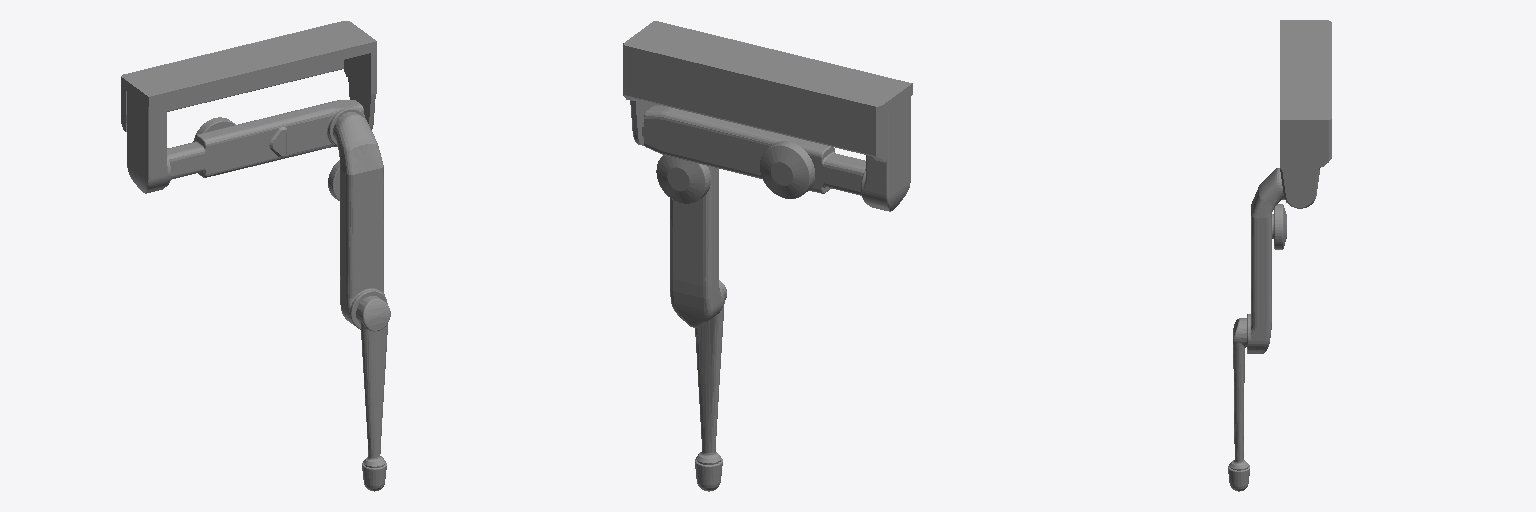
URDF robot description (fingeredu):
<?xml version="1.0" encoding="utf-8"?>
<!-- =================================================================================== -->
<!-- |    This document was autogenerated by xacro from [local-path]/ws/fingers/workspace/src/catkin/robots/robot_properties/robot_properties_fingers/xacro/edu/fingeredu.urdf.xacro | -->
<!-- |    EDITING THIS FILE BY HAND IS NOT RECOMMENDED                                 | -->
<!-- =================================================================================== -->
<robot name="fingeredu">
  <!--
    Frames are defined such that they all align with the base frame when all
    joints are at position zero.

    In zero-configuration the origins of all joints are in one line.

    In zero-configuration the origin of the base link is exactly above the
    finger tip which should make it easy to place the finger in the world.
    -->
  <!--
    Frames are defined such that they all align with the base frame when all
    joints are at position zero.

    In zero-configuration the origins of all joints are in one line.
    -->
  <material name="fingeredu_material">
    <color rgba="0.6 0.6 0.6 1.0"/>
  </material>
  <!--
        Fixed links for the finger base (parts where the upper link is mounted).
        -->
  <link name="finger_base_link">
    <visual>
      <origin rpy="0 0 0" xyz="-0.17995 0 0"/>
      <geometry>
        <mesh filename="package://robot_properties_fingers/meshes/obj/edu/base_back.obj" scale="1 1 1"/>
      </geometry>
      <material name="fingeredu_material"/>
    </visual>
    <collision>
      <origin rpy="0 0 0" xyz="-0.17995 0 0"/>
      <geometry>
        <mesh filename="package://robot_properties_fingers/meshes/obj/edu/base_back.obj" scale="1 1 1"/>
      </geometry>
    </collision>
    <visual>
      <origin rpy="0 0 0" xyz="0.0255 0 0"/>
      <geometry>
        <mesh filename="package://robot_properties_fingers/meshes/obj/edu/base_front.obj" scale="1 1 1"/>
      </geometry>
      <material name="fingeredu_material"/>
    </visual>
    <collision>
      <origin rpy="0 0 0" xyz="0.0255 0 0"/>
      <geometry>
        <mesh filename="package://robot_properties_fingers/meshes/obj/edu/base_front.obj" scale="1 1 1"/>
      </geometry>
    </collision>
    <visual>
      <origin rpy="0 0 0" xyz="0.0255 0.02 0.08"/>
      <geometry>
        <mesh filename="package://robot_properties_fingers/meshes/obj/edu/base_side_left.obj" scale="1 1 1"/>
      </geometry>
      <material name="fingeredu_material"/>
    </visual>
    <collision>
      <origin rpy="0 0 0" xyz="0.0255 0.02 0.08"/>
      <geometry>
        <mesh filename="package://robot_properties_fingers/meshes/obj/edu/base_side_left.obj" scale="1 1 1"/>
      </geometry>
    </collision>
    <!-- Disable this part.  It is not very relevant for collisions but
                 would cause trouble in pybullet due to its concavity.
            <xacro:add_geometry
                rpy="0 0 0"
                xyz="${offset_x_base_to_front} -0.02 ${offset_z_base_to_top}"
                mesh_file="${mesh_dir}/base_side_right.stl"
                material="${material}" />
            -->
    <visual>
      <origin rpy="0 0 0" xyz="0.0255 0 0.08"/>
      <geometry>
        <mesh filename="package://robot_properties_fingers/meshes/obj/edu/base_top.obj" scale="1 1 1"/>
      </geometry>
      <material name="fingeredu_material"/>
    </visual>
    <collision>
      <origin rpy="0 0 0" xyz="0.0255 0 0.08"/>
      <geometry>
        <mesh filename="package://robot_properties_fingers/meshes/obj/edu/base_top.obj" scale="1 1 1"/>
      </geometry>
    </collision>
    <inertial>
      <origin rpy="0 0 0" xyz="-0.1 0 0.4"/>
      <mass value="1"/>
      <inertia ixx="0.0608333333333" ixy="0" ixz="0" iyy="0.0566666666667" iyz="0" izz="0.0108333333333"/>
    </inertial>
  </link>
  <!-- The movable links (upper, middle and lower) of the finger. -->
  <!-- FIXME inertias are not correct! -->
  <link name="finger_upper_link">
    <visual>
      <origin rpy="0 0 0" xyz="0.0195 0 0"/>
      <geometry>
        <mesh filename="package://robot_properties_fingers/meshes/obj/edu/upper_link.obj" scale="1 1 1"/>
      </geometry>
      <material name="fingeredu_material"/>
    </visual>
    <collision>
      <origin rpy="0 0 0" xyz="0.0195 0 0"/>
      <geometry>
        <mesh filename="package://robot_properties_fingers/meshes/obj/edu/upper_link.obj" scale="1 1 1"/>
      </geometry>
    </collision>
    <inertial>
      <!-- Note: This uses the values from the middle link, assuming
                     that it is similar enough. -->
      <!-- CoM is only estimated based -->
      <origin rpy="0 0 0" xyz="-0.079 0 0"/>
      <mass value="0.14854"/>
      <inertia ixx="0.00003" ixy="0.00005" ixz="0.00000" iyy="0.00041" iyz="0.00000" izz="0.00041"/>
    </inertial>
  </link>
  <link name="finger_middle_link">
    <visual>
      <origin rpy="0 0 0" xyz="0 0 0"/>
      <geometry>
        <mesh filename="package://robot_properties_fingers/meshes/obj/edu/middle_link.obj" scale="1 1 1"/>
      </geometry>
      <material name="fingeredu_material"/>
    </visual>
    <collision>
      <origin rpy="0 0 0" xyz="0 0 0"/>
      <geometry>
        <mesh filename="package://robot_properties_fingers/meshes/obj/edu/middle_link.obj" scale="1 1 1"/>
      </geometry>
    </collision>
    <inertial>
      <origin rpy="0 0 0" xyz="0 -0.019 -0.079"/>
      <mass value="0.14854"/>
      <inertia ixx="0.00041" ixy="0.00000" ixz="0.00000" iyy="0.00041" iyz="0.00005" izz="0.00003"/>
    </inertial>
  </link>
  <link name="finger_lower_link">
    <visual>
      <origin rpy="0 0 0" xyz="0 0 0"/>
      <geometry>
        <mesh filename="package://robot_properties_fingers/meshes/obj/edu/lower_link.obj" scale="1 1 1"/>
      </geometry>
      <material name="fingeredu_material"/>
    </visual>
    <collision>
      <origin rpy="0 0 0" xyz="0 0 0"/>
      <geometry>
        <mesh filename="package://robot_properties_fingers/meshes/obj/edu/lower_link.obj" scale="1 1 1"/>
      </geometry>
    </collision>
    <!-- TODO: these are the interial values from the Solo lower leg
                 link which is similar but not exactly the same to the FingerEdu
                 lower link. -->
    <inertial>
      <origin rpy="0 0 0" xyz="0 -0.009 -0.089"/>
      <mass value="0.03070"/>
      <inertia ixx="0.00012" ixy="0.00000" ixz="0.00000" iyy="0.00012" iyz="0.00000" izz="0.00000"/>
    </inertial>
  </link>
  <!-- fixed link for finger tip -->
  <link name="finger_tip_link">
    <inertial>
      <origin rpy="0 0 0" xyz="0 0 0"/>
      <mass value="0.01"/>
      <inertia ixx="1.66666666667e-07" ixy="0" ixz="0" iyy="1.66666666667e-07" iyz="0" izz="1.66666666667e-07"/>
    </inertial>
  </link>
  <joint name="finger_lower_to_tip_joint" type="fixed">
    <parent link="finger_lower_link"/>
    <child link="finger_tip_link"/>
    <origin xyz="0 -0.008 -0.16"/>
  </joint>
  <!-- kinematics -->
  <joint name="finger_base_to_upper_joint" type="revolute">
    <parent link="finger_base_link"/>
    <child link="finger_upper_link"/>
    <limit effort="1000" lower="-1.57079632679" upper="1.57079632679" velocity="1000"/>
    <axis xyz="-1 0 0"/>
    <origin rpy="0 0 0" xyz="0 0 0"/>
  </joint>
  <joint name="finger_upper_to_middle_joint" type="revolute">
    <parent link="finger_upper_link"/>
    <child link="finger_middle_link"/>
    <limit effort="1000" lower="-1.57079632679" upper="1.57079632679" velocity="1000"/>
    <axis xyz="0 1 0"/>
    <origin rpy="0 0 0" xyz="0 -0.014 0"/>
  </joint>
  <joint name="finger_middle_to_lower_joint" type="revolute">
    <parent link="finger_middle_link"/>
    <child link="finger_lower_link"/>
    <limit effort="1000" lower="-3.14159265359" upper="3.14159265359" velocity="1000"/>
    <axis xyz="0 1 0"/>
    <origin rpy="0 0 0" xyz="0 -0.03745 -0.16"/>
  </joint>
  <!--
    Define the global base link and place the finger relative to it.
    -->
  <link name="base_link">
    <inertial>
      <origin rpy="0 0 0" xyz="0 0 0"/>
      <mass value="1"/>
      <inertia ixx="4.16666666667e-06" ixy="0" ixz="0" iyy="4.16666666667e-06" iyz="0" izz="4.16666666667e-06"/>
    </inertial>
  </link>
  <joint name="base_to_finger" type="fixed">
    <parent link="base_link"/>
    <child link="finger_base_link"/>
    <origin xyz="0 0 0.283"/>
  </joint>
</robot>

--- What the picture shows (computed from the rendered views, not written in the file) ---
The picture shows the robot from 3 angles, left to right: view 1: azimuth 30°, elevation 25°; view 2: azimuth 150°, elevation 25°; view 3: azimuth 270°, elevation 25°; orthographic projection.
Model fingeredu with 6 links and 5 joints (3 revolute, 2 fixed), rooted at base_link, posed all joints at 0.
Links seen in each view (by area): view 1: finger_base_link, finger_middle_link, finger_upper_link, finger_lower_link; view 2: finger_base_link, finger_upper_link, finger_middle_link, finger_lower_link; view 3: finger_base_link, finger_middle_link, finger_lower_link.
Link boxes in pixels (x1,y1,x2,y2): finger_base_link: [121, 21, 376, 193]; finger_middle_link: [328, 112, 387, 329]; finger_upper_link: [167, 100, 365, 179]; finger_lower_link: [356, 296, 390, 491]; finger_base_link: [623, 21, 912, 211]; finger_upper_link: [642, 105, 865, 198]; finger_middle_link: [656, 155, 723, 327]; finger_lower_link: [695, 280, 726, 491]; finger_base_link: [1280, 20, 1331, 208]; finger_middle_link: [1247, 168, 1286, 353]; finger_lower_link: [1228, 318, 1249, 491].
Bounding box of the posed robot: 0.2295 × 0.1013 × 0.4095 m (x, y, z).
7 mesh visuals loaded from 7 distinct referenced files (7 OBJ).
